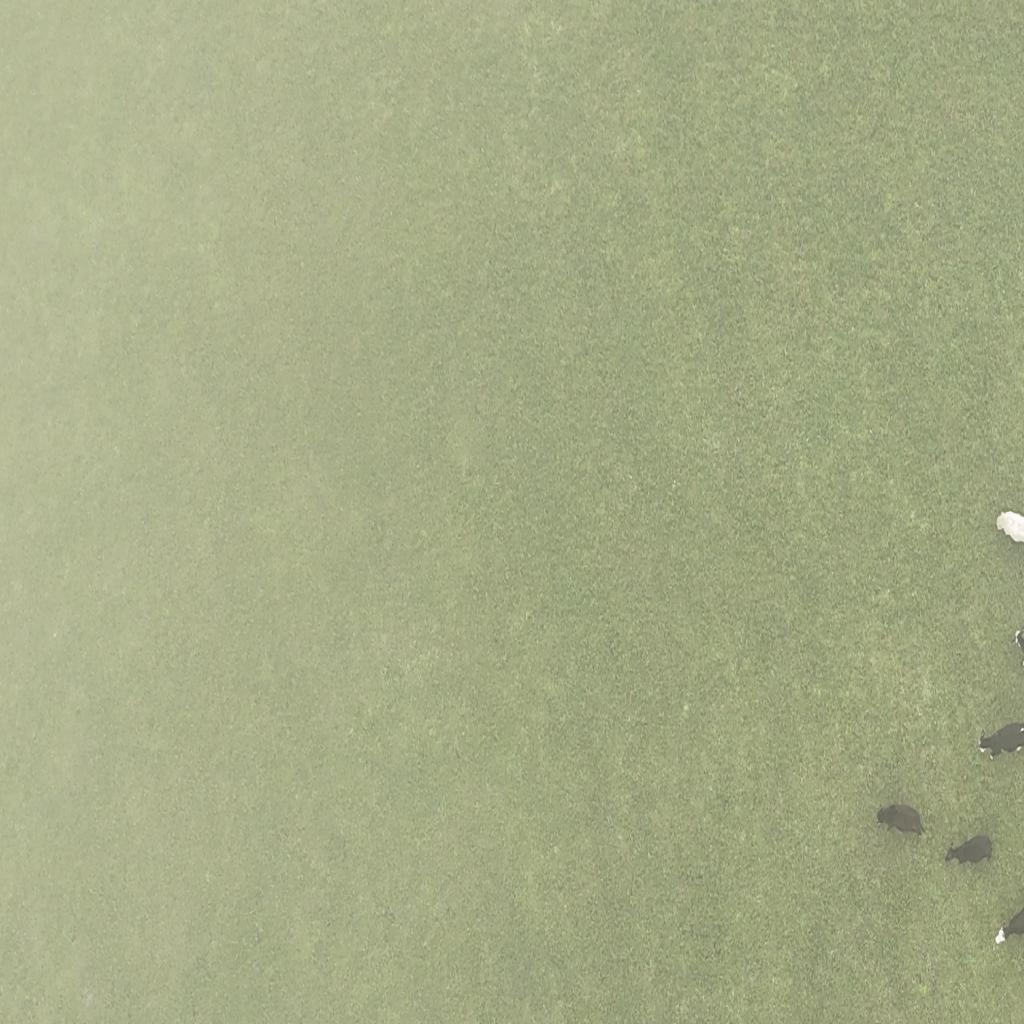cow: (874, 799, 923, 839), (978, 716, 1024, 758), (946, 830, 996, 868)
